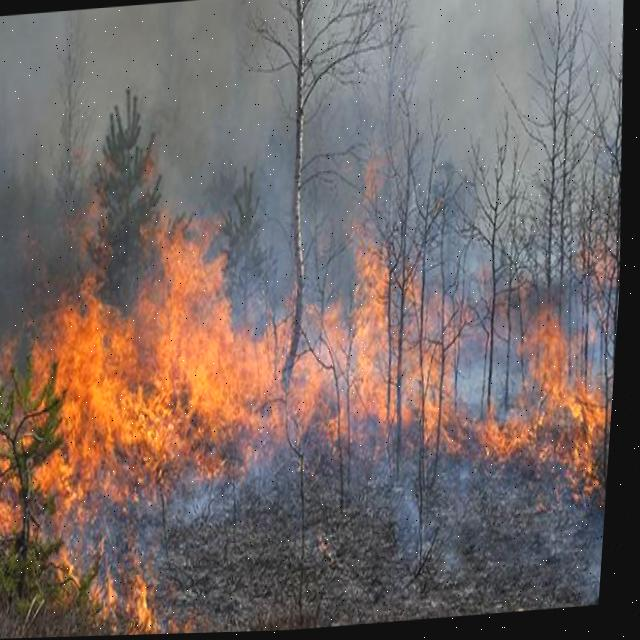fire: (39, 234, 617, 635)
smoke: (0, 0, 286, 215), (418, 0, 538, 174)
